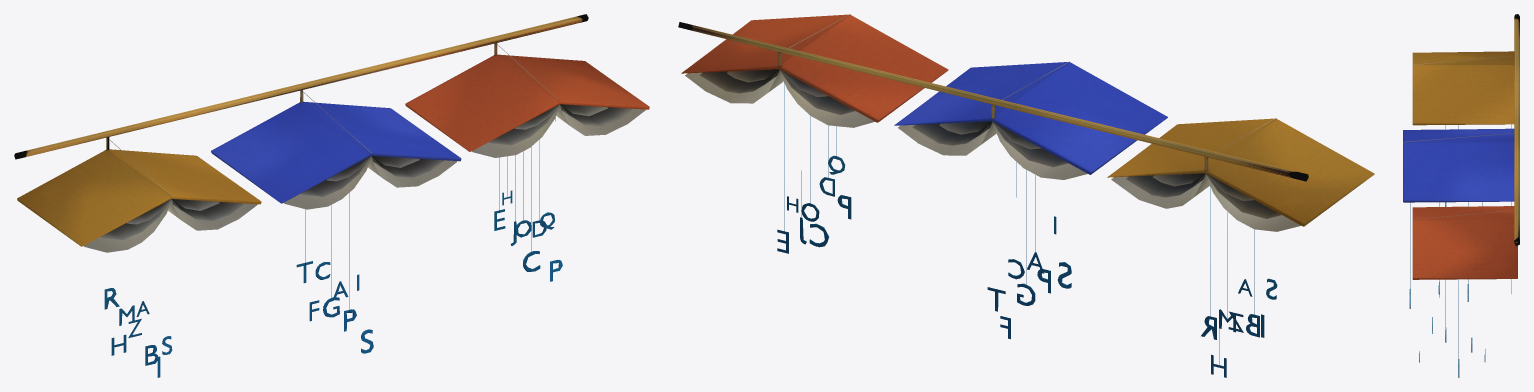
File: HangingBook_LOD2.glb
The picture shows the model from 3 angles, left to right: view 1: azimuth 30°, elevation 25°; view 2: azimuth 150°, elevation 25°; view 3: azimuth 270°, elevation 25°; orthographic projection. The views are drawn at different scales.
Visible parts, largest first — view 1: Hanging Books_PROCESSED.001_LOD2; view 2: Hanging Books_PROCESSED.001_LOD2; view 3: Hanging Books_PROCESSED.001_LOD2.
Boxes of the visible parts, x1,y1,x2,y2 form: Hanging Books_PROCESSED.001_LOD2: (14, 14, 649, 377); Hanging Books_PROCESSED.001_LOD2: (678, 14, 1374, 377); Hanging Books_PROCESSED.001_LOD2: (1403, 14, 1519, 377).
Bounding box in the file's own units: 15.3 × 5.83 × 3.32.
1 material, 1 textured.
